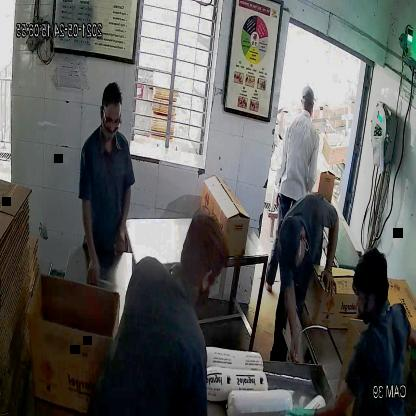goggles: (100, 108, 122, 134)
